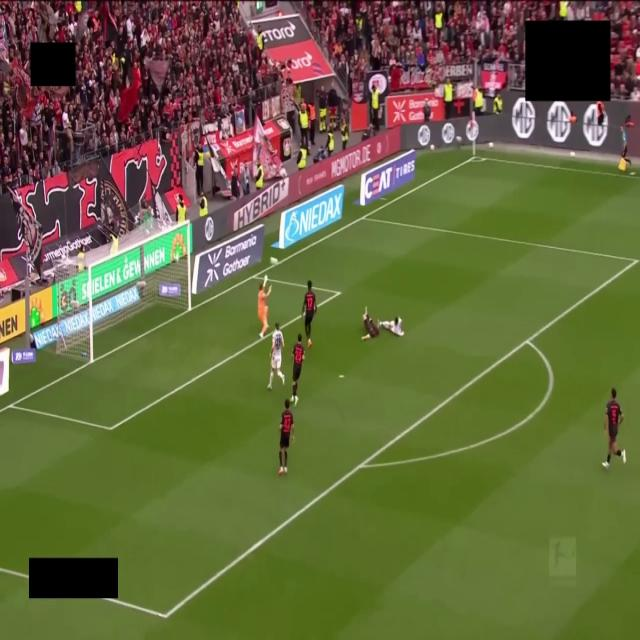player: (603, 388, 625, 468), (268, 323, 285, 390), (279, 400, 294, 475), (303, 280, 317, 347), (292, 334, 304, 405), (258, 279, 271, 338), (362, 308, 378, 340), (379, 317, 404, 336)
